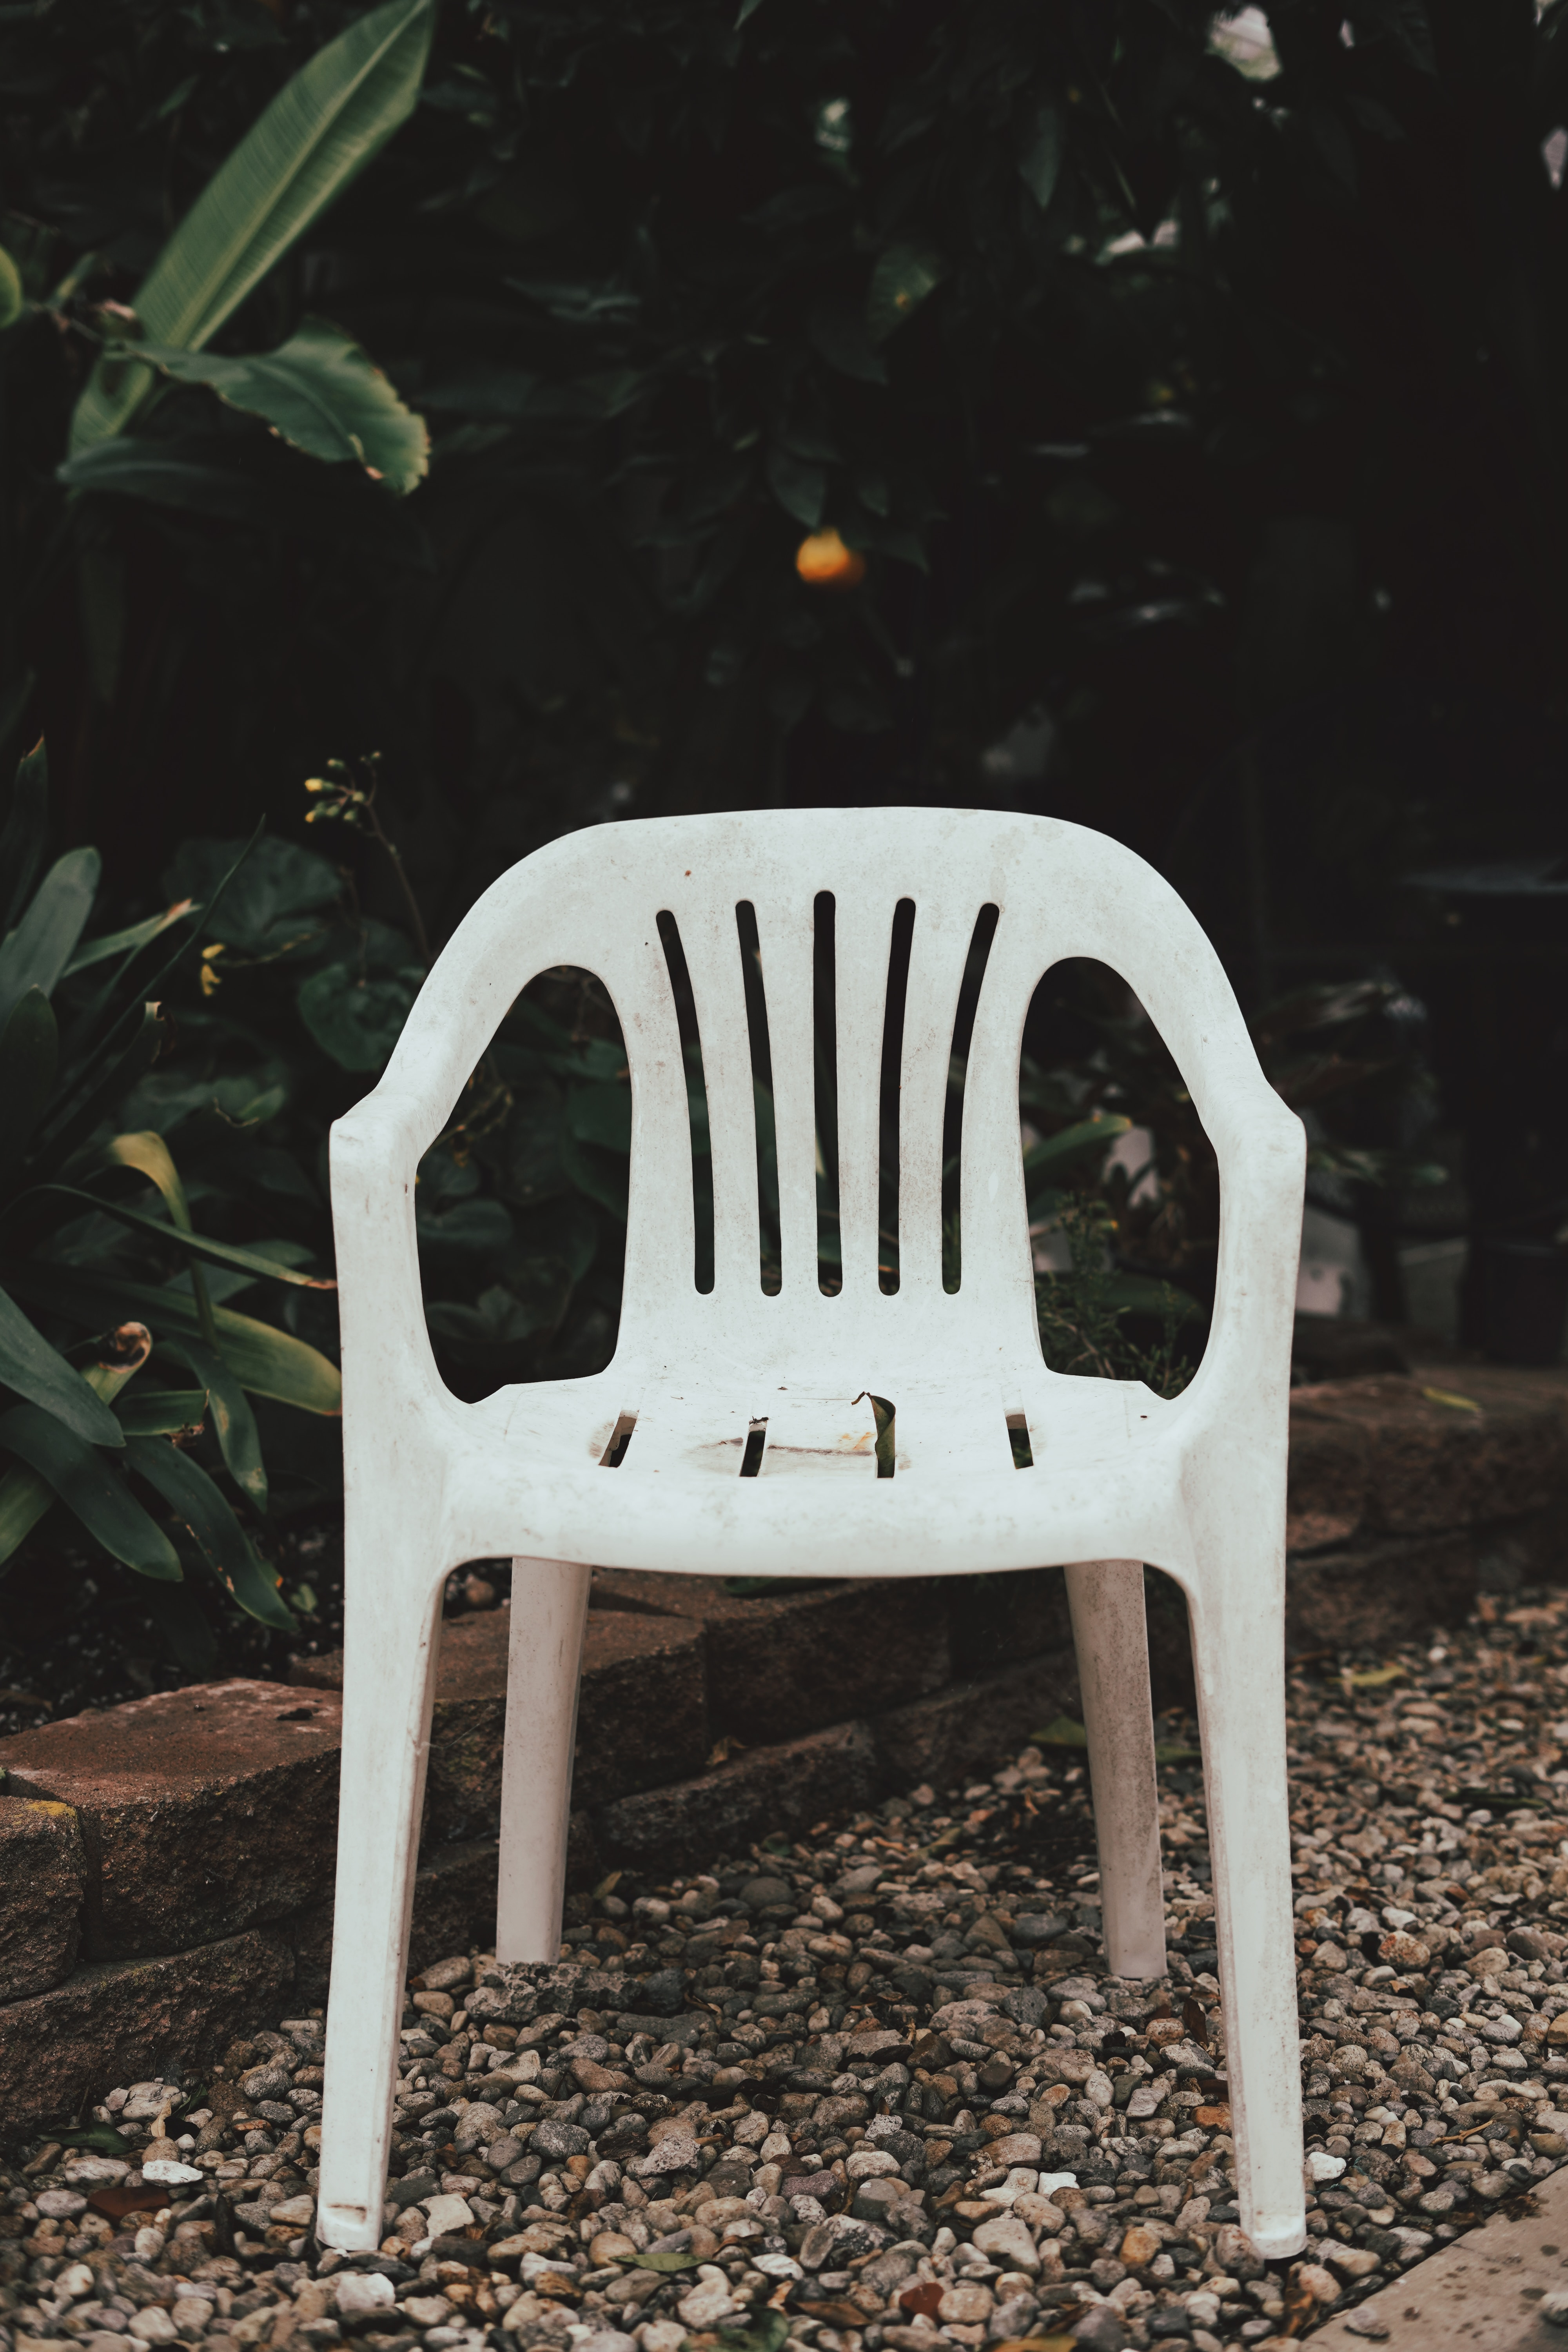Chair: (306, 800, 1326, 2268)
